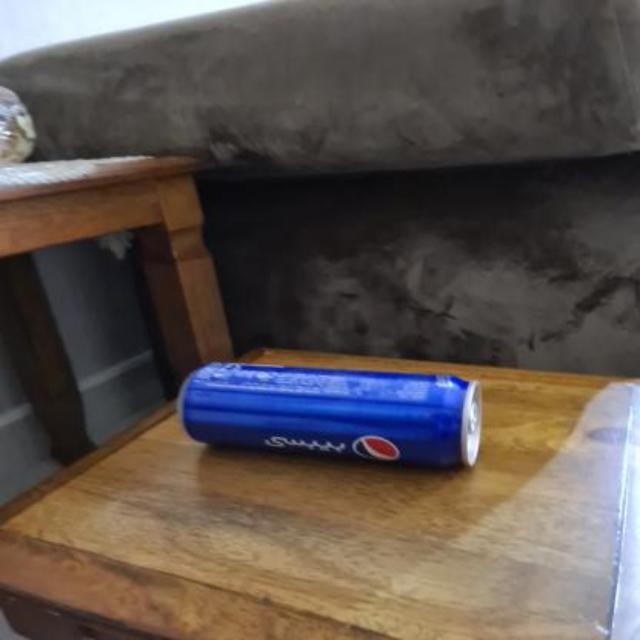metal: (177, 362, 478, 465)
